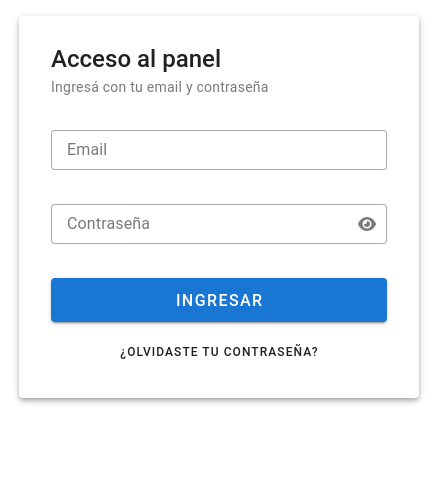
Test case: LoginAdmin › credenciales incorrectas: mensaje claro, borra la contraseña y no entra
Type "maria@x.com" into the field labelled "Email" at (219, 150), box x1=51 y1=130 x2=387 y2=170
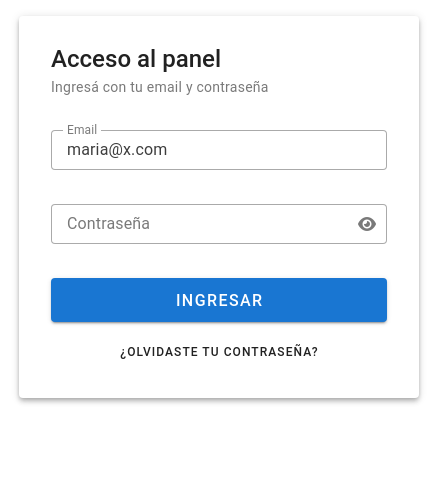
Type "mala" into the password field labelled "Contraseña" at (205, 224), box x1=51 y1=204 x2=359 y2=244
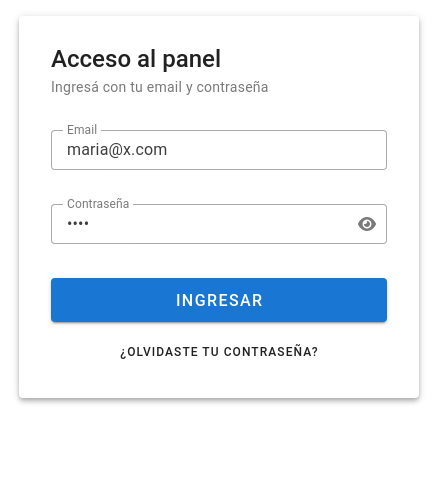
Submit the form, box x1=51 y1=130 x2=387 y2=366
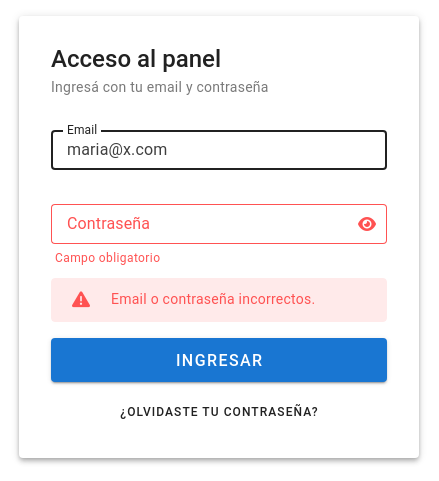
Expected: the text "Email o contraseña incorrectos." is shown, x1=111 y1=291 x2=315 y2=307
Expected: the password field labelled "Contraseña" is empty, x1=51 y1=204 x2=359 y2=244
